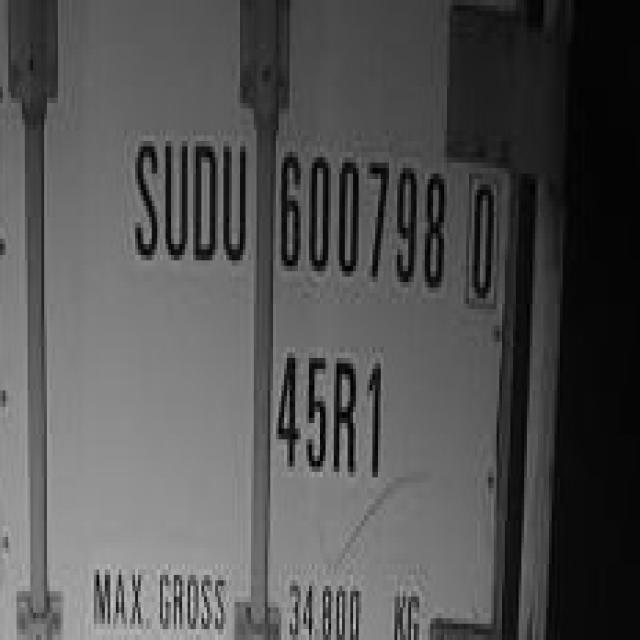dv: (458, 162, 499, 310)
owner: (124, 119, 246, 278)
serial: (275, 136, 444, 300)
size: (270, 338, 387, 488)
